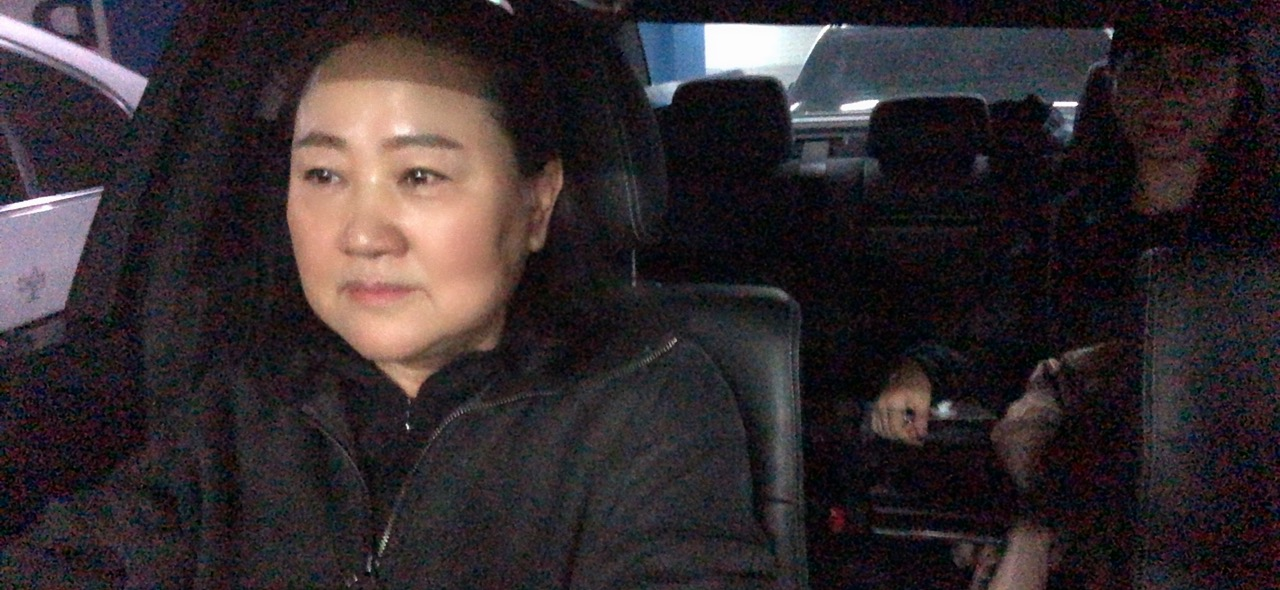front: (63, 4, 758, 590)
